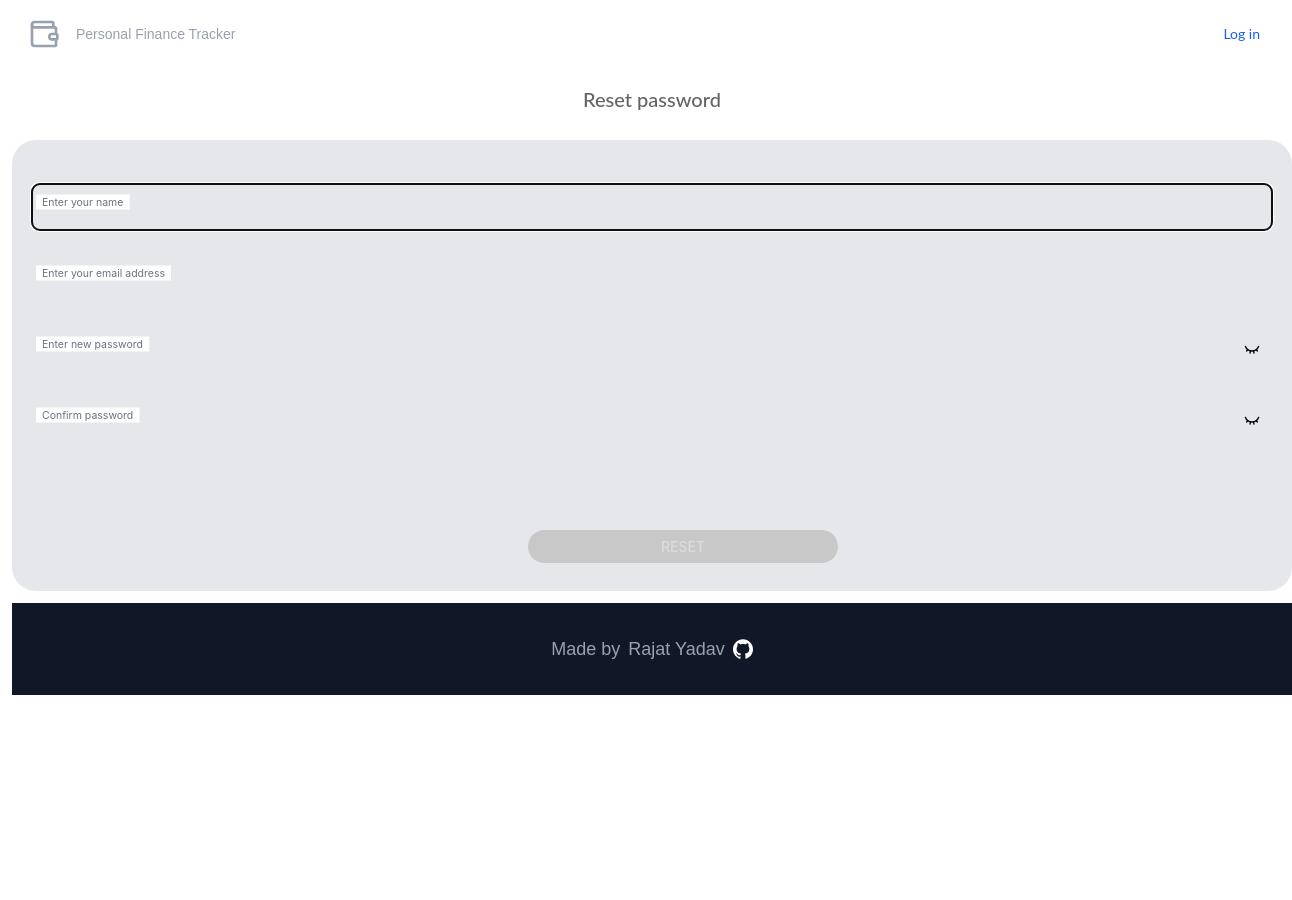
ResetPasswordPage page › handles API errors gracefully
The image size is (1292, 900).
Type "Test User" into the field labelled "Enter your name" at (652, 207), box [32, 184, 1272, 230]
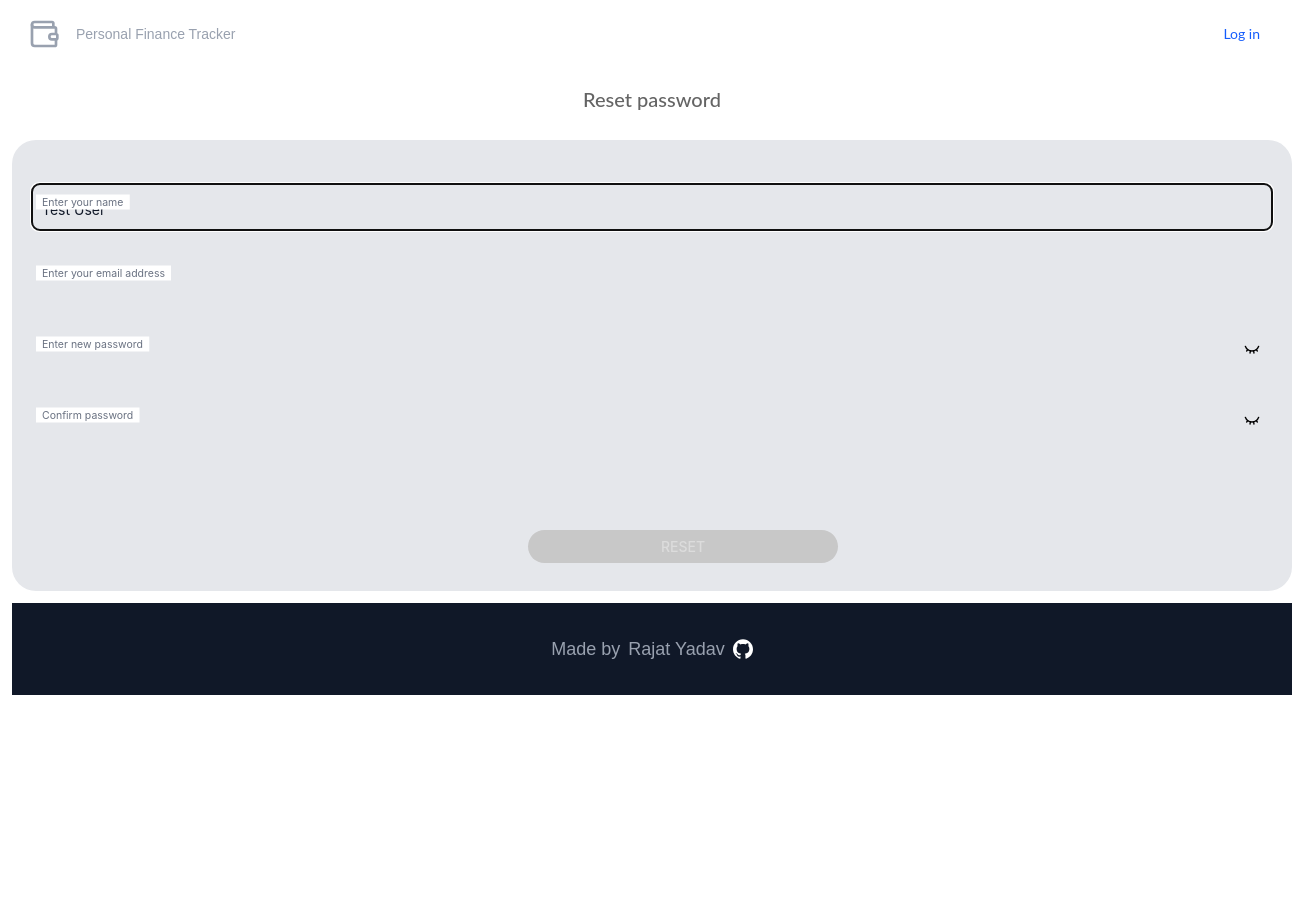
Type "testuser@example.com" into the field labelled "Enter your email address" at (652, 278), box [32, 255, 1272, 301]
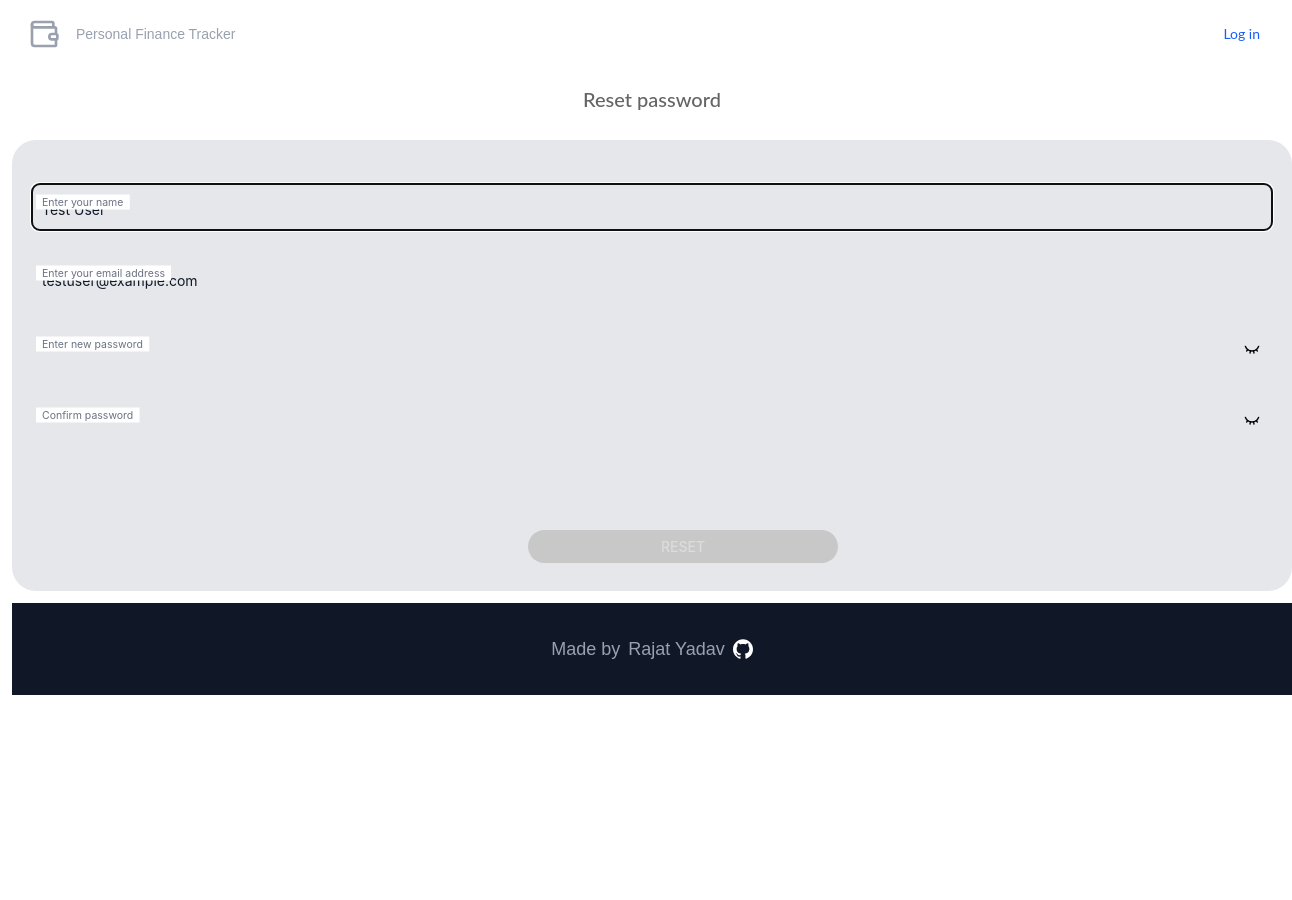
Type "Password.456" into the password field labelled "Enter new password" at (652, 349), box [32, 326, 1272, 372]
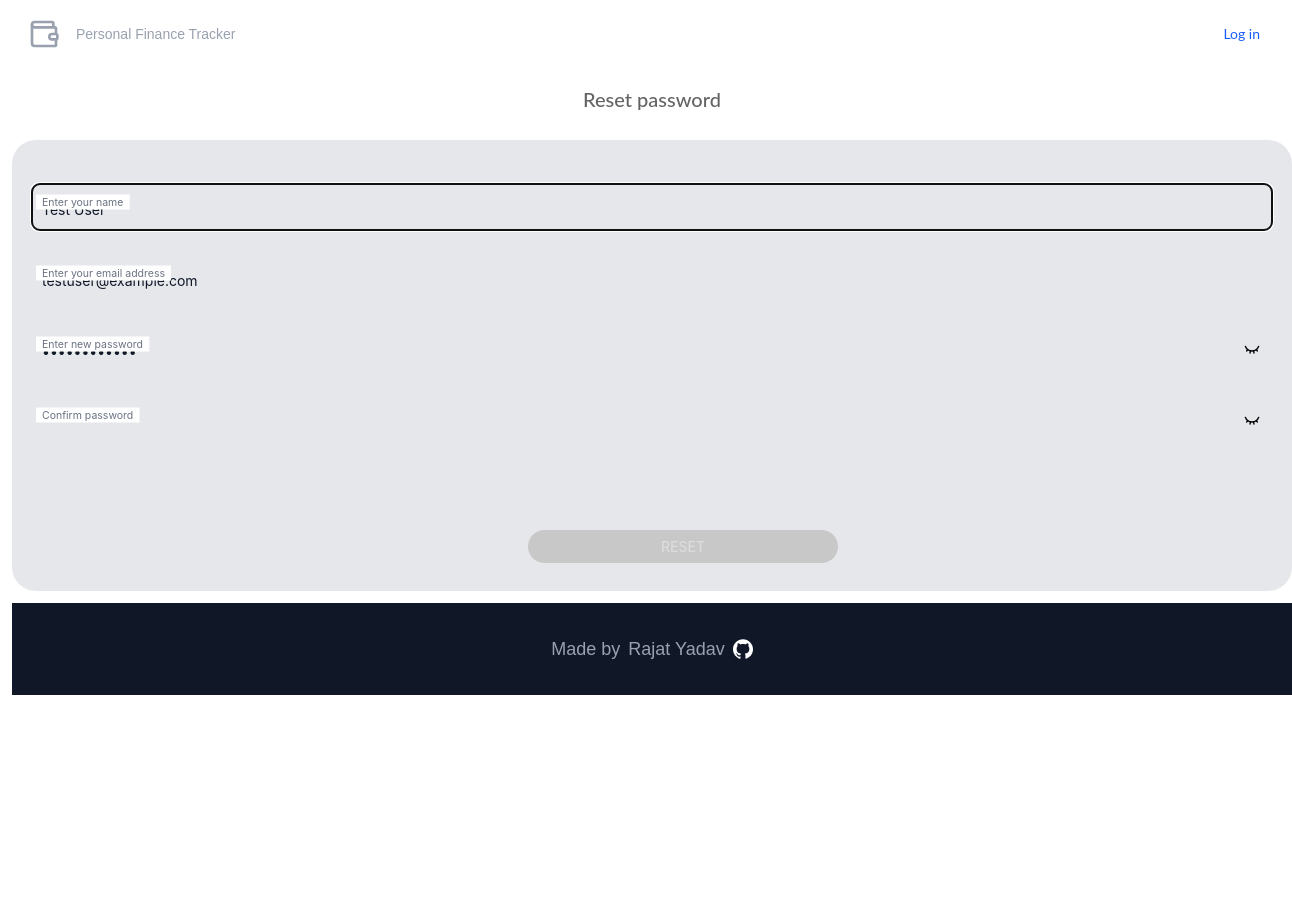
Type "Password.456" into the password field labelled "Confirm password" at (652, 420), box [32, 397, 1272, 443]
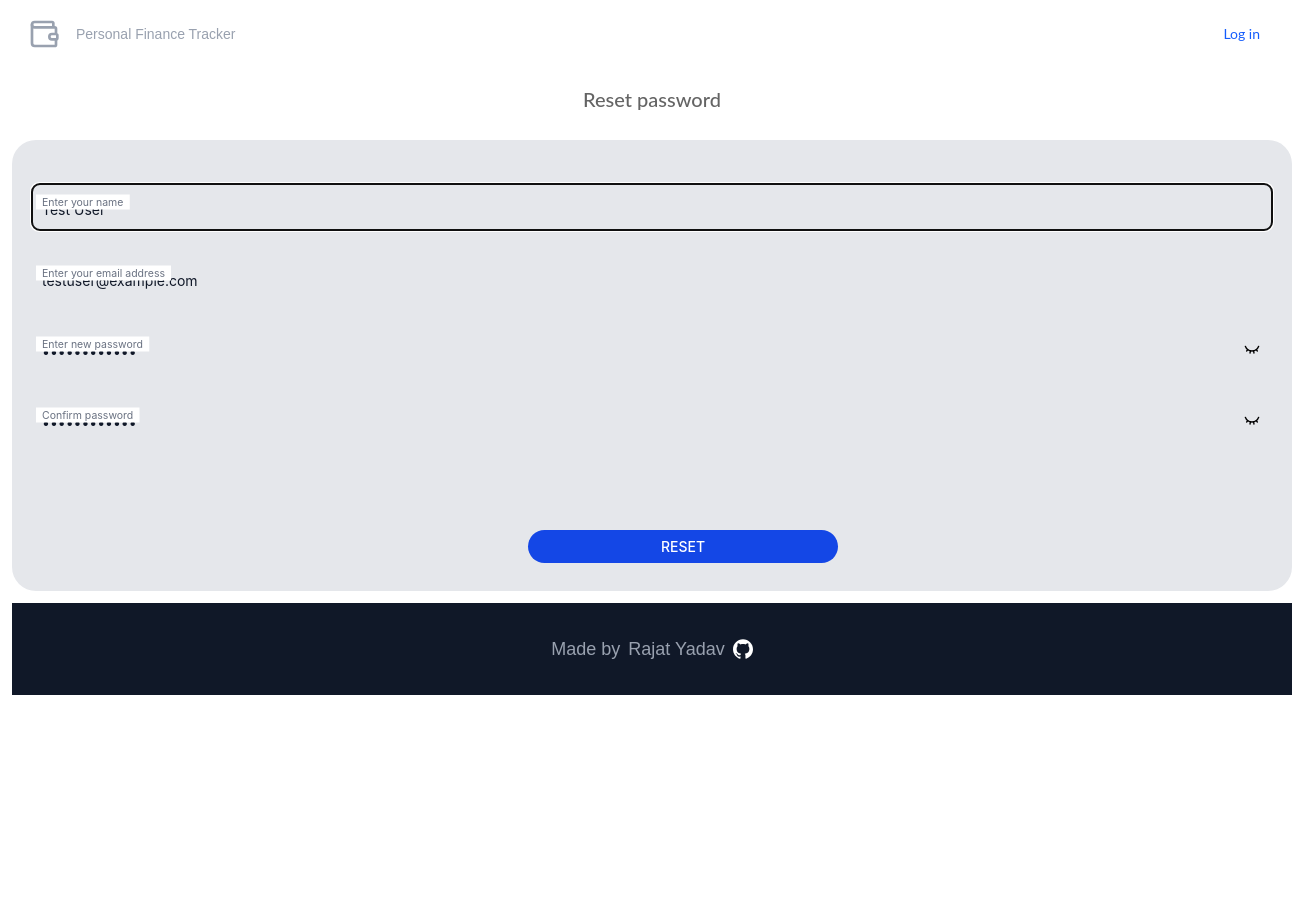
Click the button "RESET" at (683, 546), box [528, 530, 838, 563]
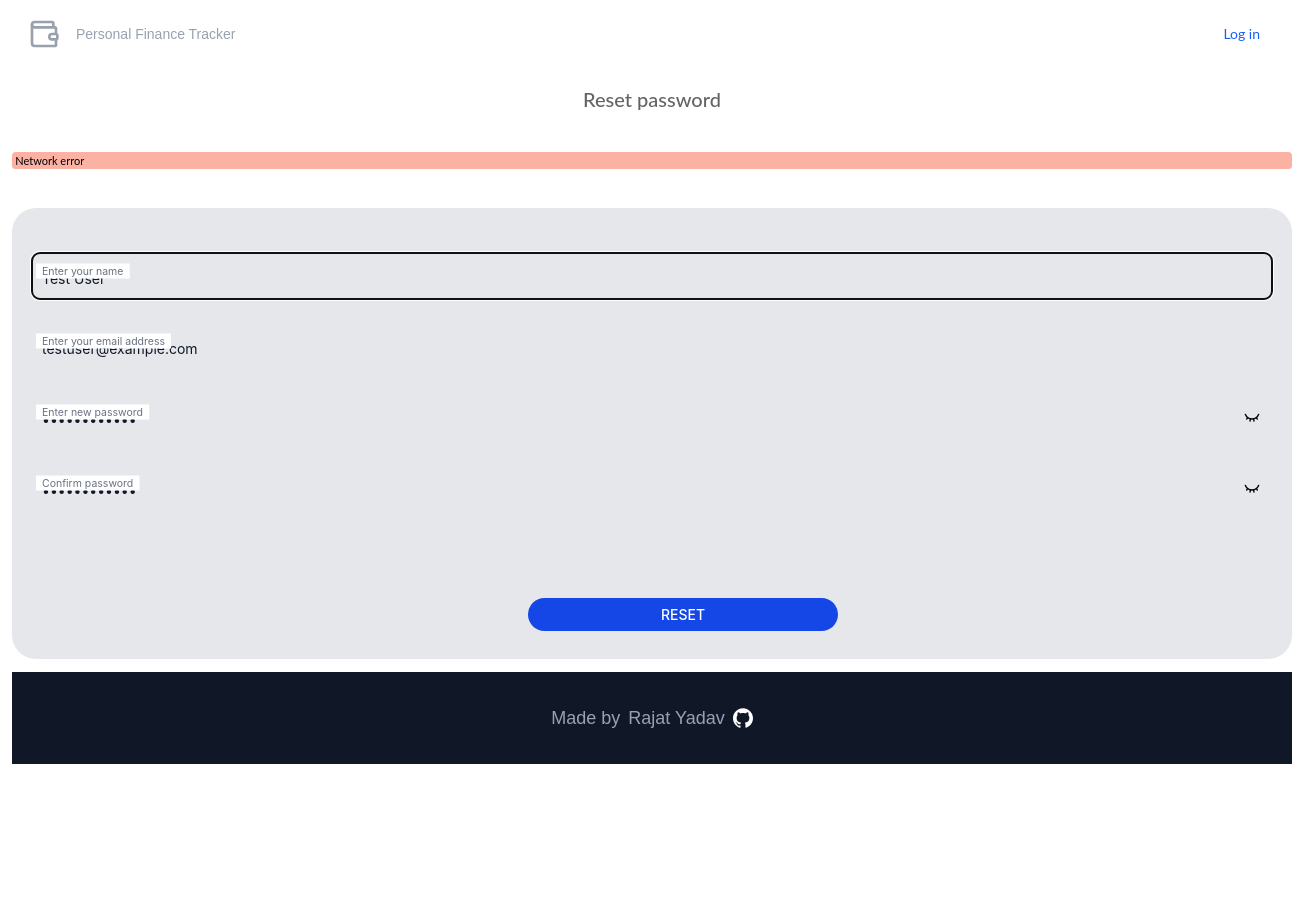
Expected: the text "Network error" is shown, [12, 152, 1291, 169]
